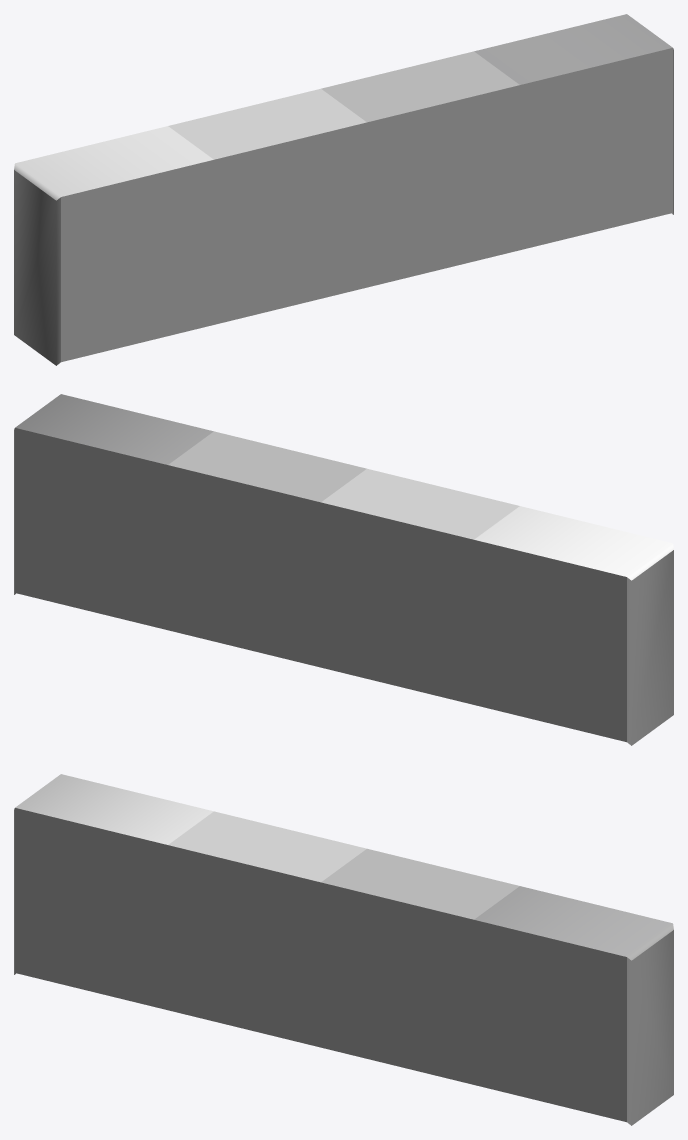
Rendered from road06.FBX.
The picture shows the model from 3 angles, top to bottom: view 1: azimuth 30°, elevation 25°; view 2: azimuth 150°, elevation 25°; view 3: azimuth 330°, elevation 25°; orthographic projection.
Visible parts, largest first — view 1: road06; view 2: road06; view 3: road06.
Boxes of the visible parts, left/top/right/bottom form: road06: left=14, top=14, right=673, bottom=365; road06: left=14, top=394, right=673, bottom=745; road06: left=14, top=774, right=673, bottom=1125.
Size of the model in its own units: 12 by 3.15 by 1.55.
Materials: 1 (1 with a texture image).
